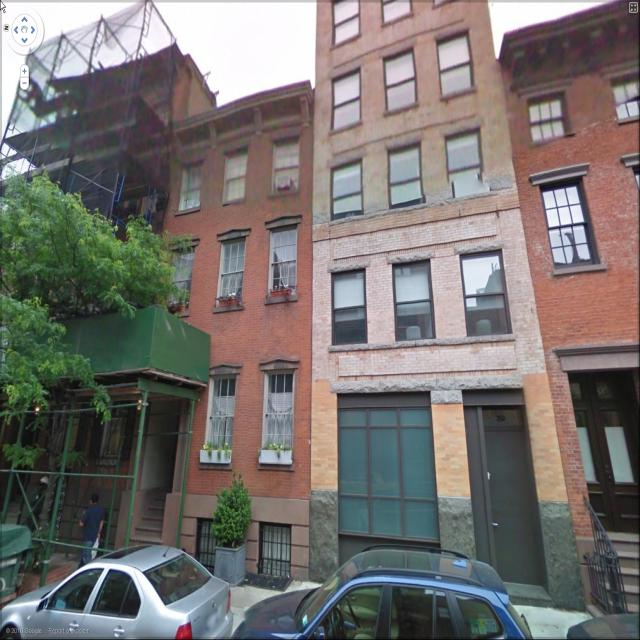b_1: (302, 1, 511, 532), (506, 14, 640, 554), (150, 96, 315, 496)
b_2: (3, 30, 174, 515)
